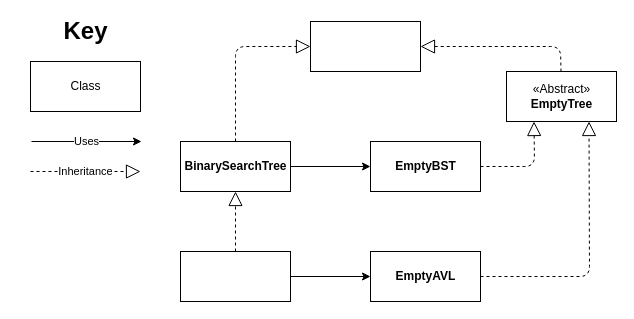
This 634x319 diagram has some shape labels left out. Here are the shapes that lost their labels. From the top down, the centre of each, then its label:
(x=365, y=46): «Abstract» Tree
(x=235, y=276): AVLTree
